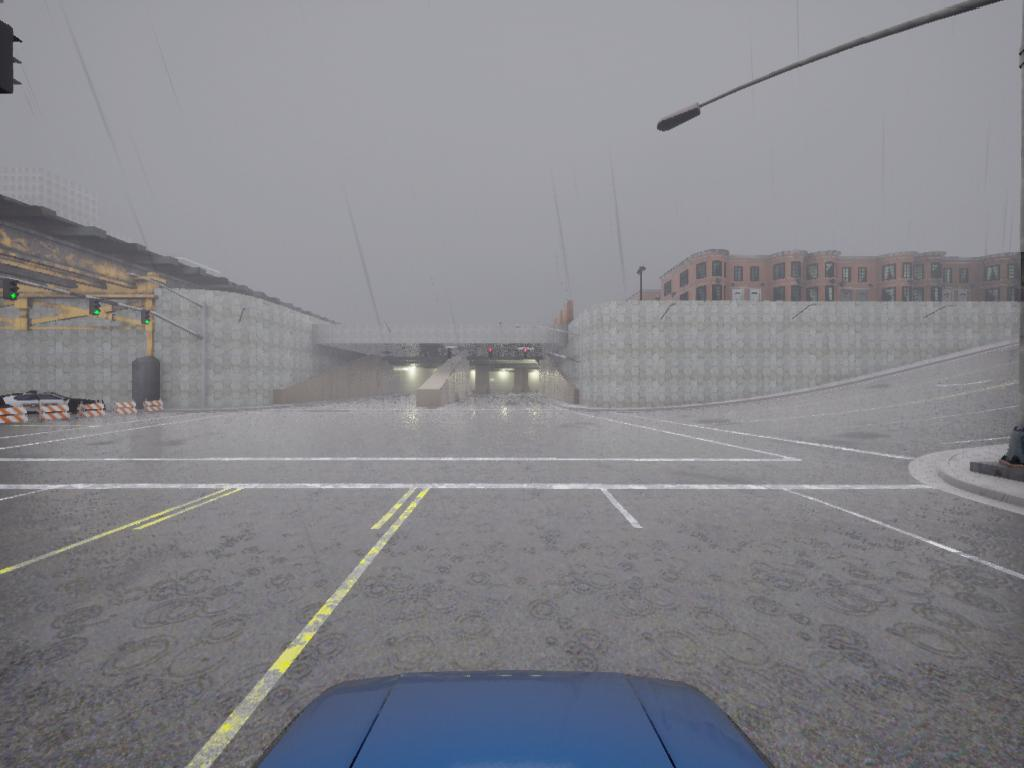traffic_light: (2, 20, 23, 94), (2, 282, 19, 302), (93, 304, 111, 322), (141, 309, 151, 330), (488, 348, 495, 360), (448, 348, 453, 362), (524, 349, 528, 361)
